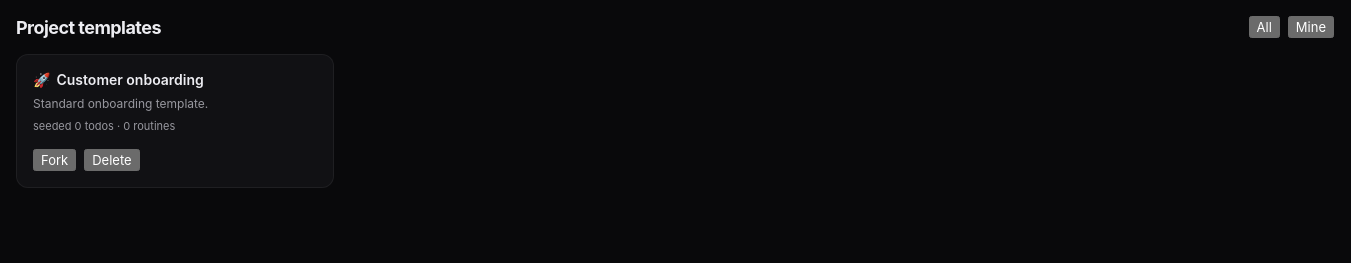
Test: TemplateGalleryRoute mutations › surfaces a pending-error banner when delete fails (and keeps rendering the list)
Click the button with test id "template-gallery-route-delete". click: (112, 160)
box: [84, 149, 140, 171]
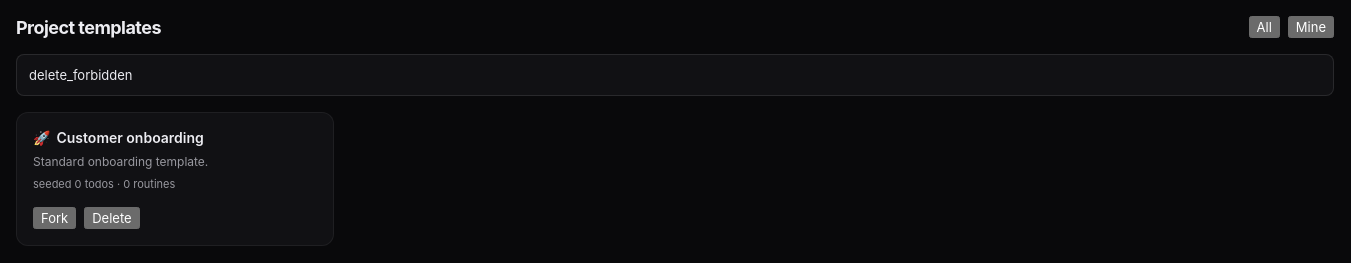
Check: the list item with test id "template-gallery-route-card" is shown, box [16, 112, 334, 246]
Check: the message "delete_forbidden" is shown, box [16, 54, 1334, 96]
Check: the message with test id "template-gallery-route-pending-error" reads "delete_forbidden", box [29, 67, 132, 83]
